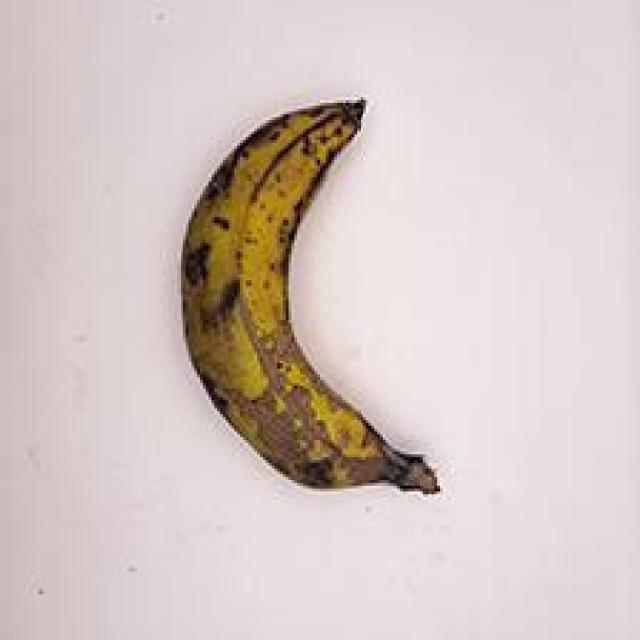Overripe: (160, 51, 456, 536)
